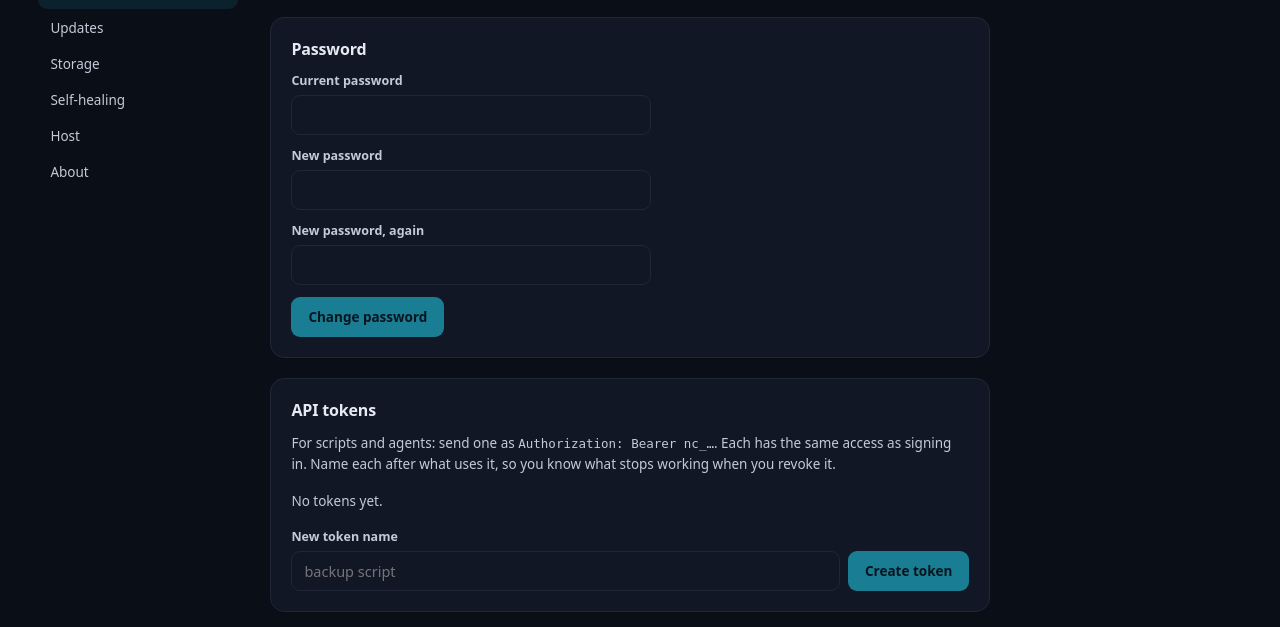
SettingsPage › shows a new token once, and revokes only after asking
Later steps or results of the test are not shown.
In the field labelled "New token name": point(566, 571) [291,551,840,591], type "ci"
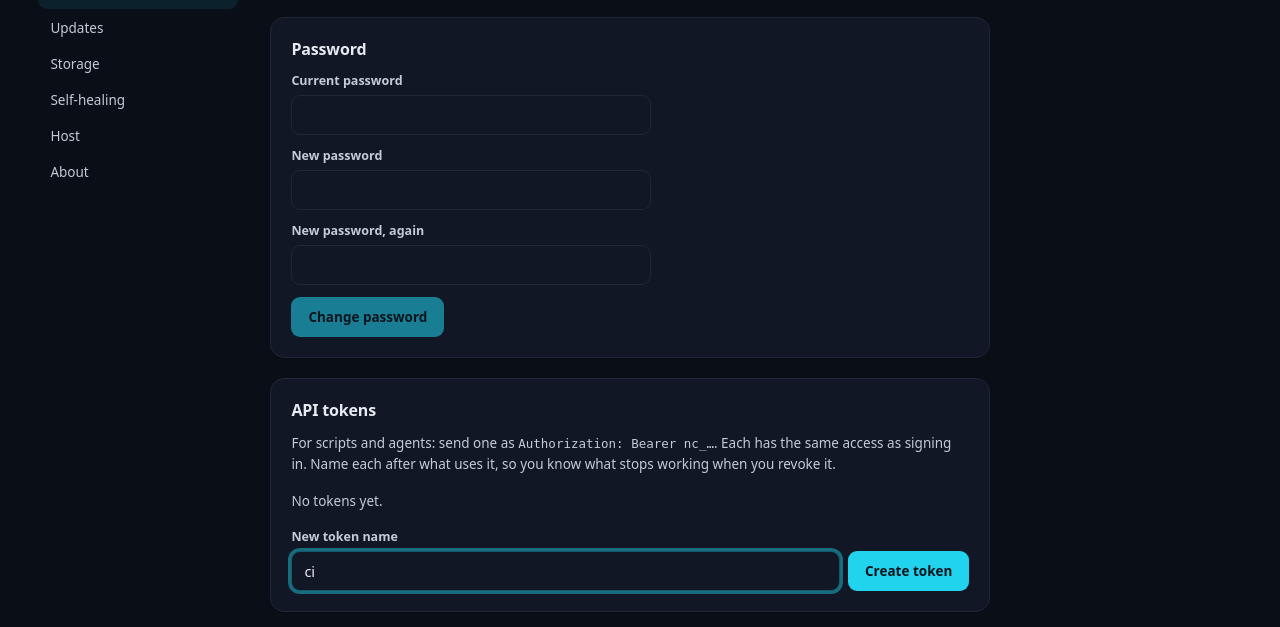
Click the button "Create token": point(909, 571) [848,551,969,591]
(page scrolled)
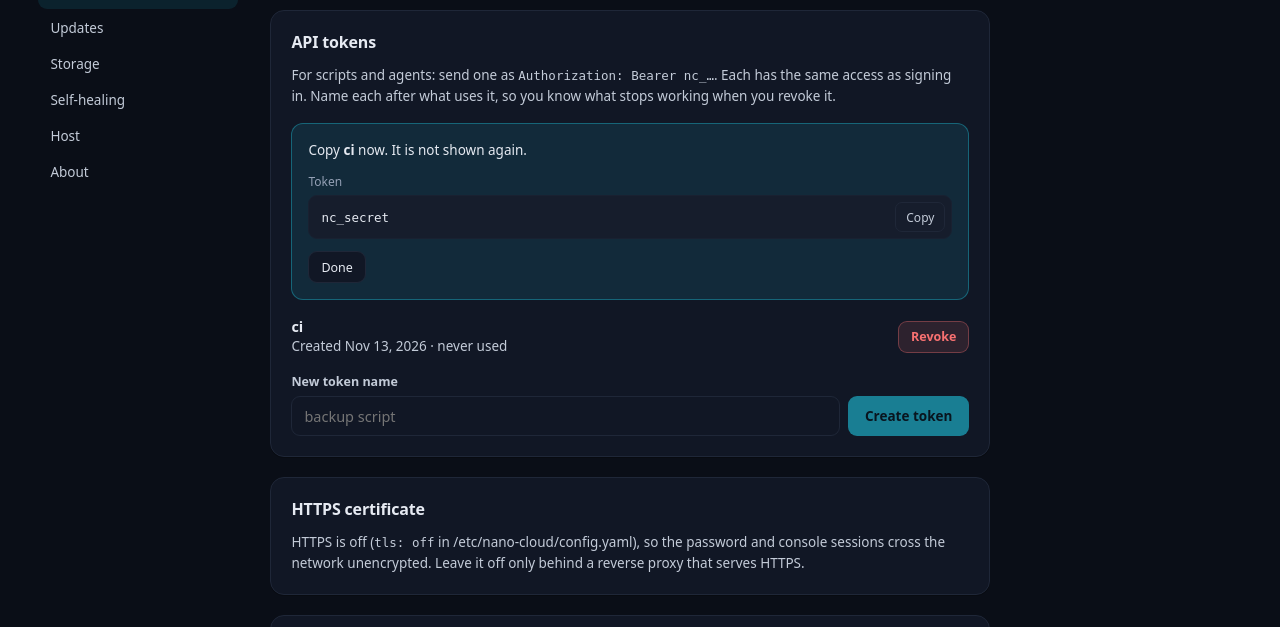
Check: the text "nc_secret" is shown, box [321,210,389,225]
Check: the text "Created Nov 13, 2026 · never used" is shown, box [291,336,507,357]
Click the button "Done": point(337, 267) [308,251,366,283]
(page scrolled)
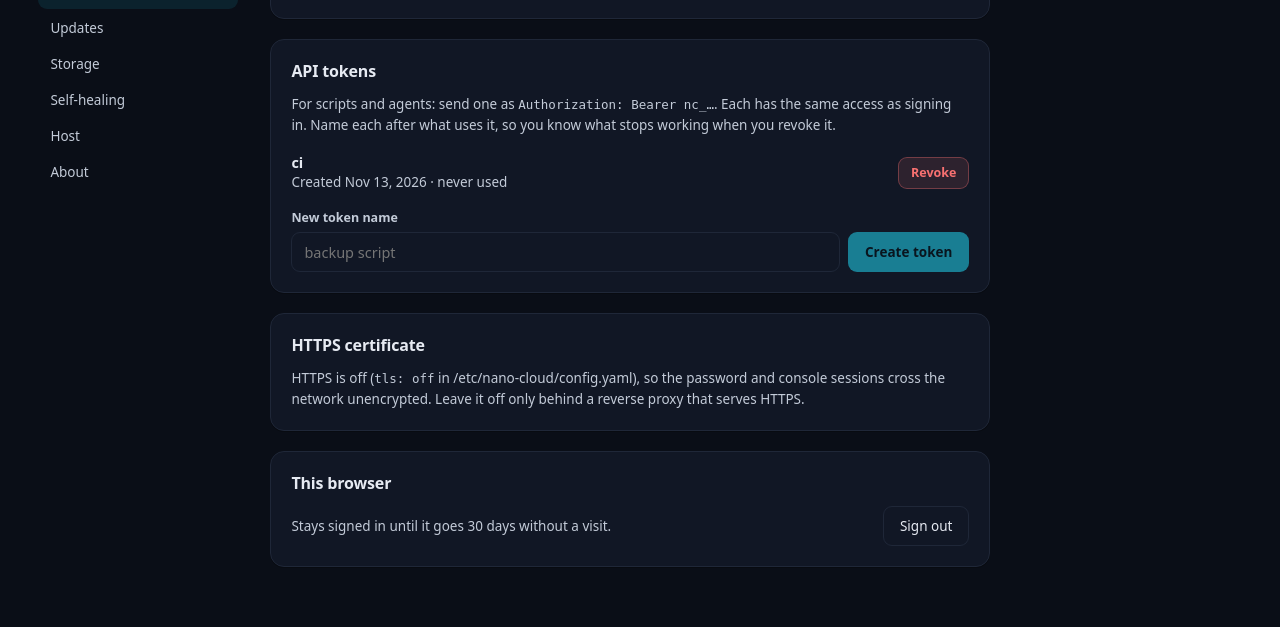
Check: the text "nc_secret" is gone
